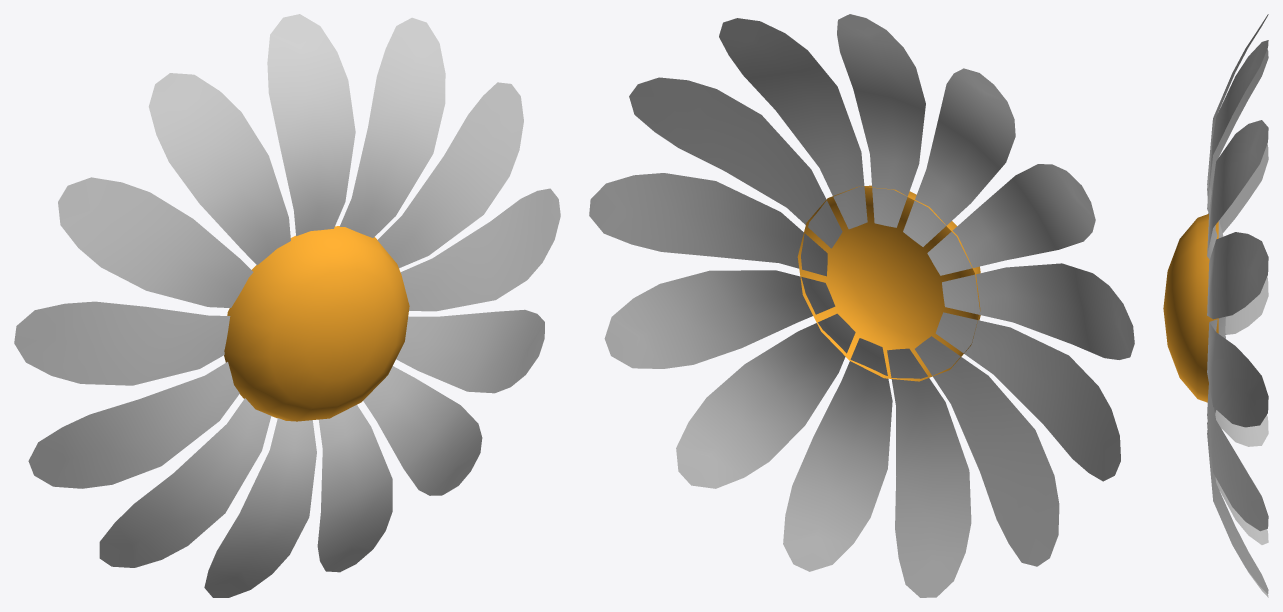
File: Cake_items_Flower-C 1.FBX
The picture shows the model from 3 angles, left to right: view 1: azimuth 30°, elevation 25°; view 2: azimuth 150°, elevation 25°; view 3: azimuth 270°, elevation 25°; orthographic projection. The views are drawn at different scales.
Visible parts, largest first — view 1: Cake_items_Flower-C; view 2: Cake_items_Flower-C; view 3: Cake_items_Flower-C.
Part boxes in pixels (x1,y1,x2,y2): Cake_items_Flower-C: [14, 14, 560, 597]; Cake_items_Flower-C: [589, 14, 1134, 597]; Cake_items_Flower-C: [1163, 14, 1268, 597].
Bounding box in the file's own units: 1461 × 1452 × 262.
